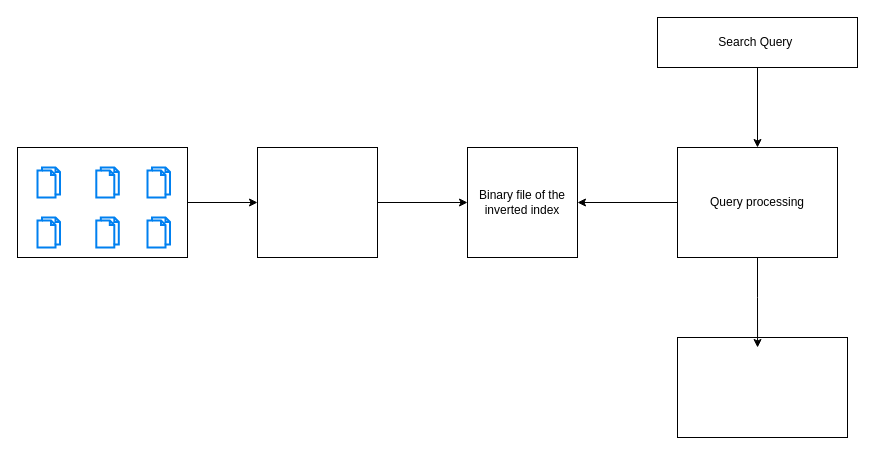
This 875x455 diagram has some shape labels left out. The shapes that lost their labels are listed below. From the top down, each one's centre as x and y in pixels, then its label:
the point at 317,202: Indexing process (batch job to fetch document and create TF-IDF)
the point at 762,387: Search Results
